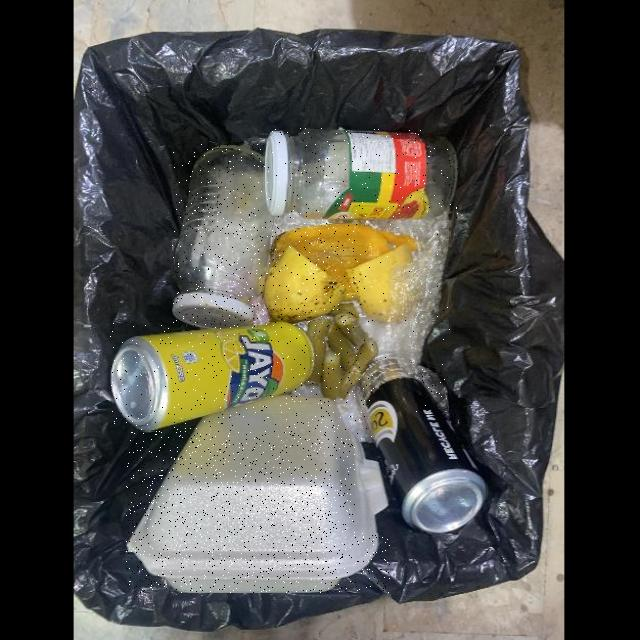biowaste: (264, 223, 419, 323), (306, 299, 379, 400)
glass: (173, 144, 272, 328), (264, 128, 458, 219)
metal: (356, 357, 487, 532), (110, 321, 315, 431)
plastic: (359, 211, 450, 365), (336, 385, 373, 441), (417, 369, 449, 415)
styrofoam: (126, 395, 390, 592)
